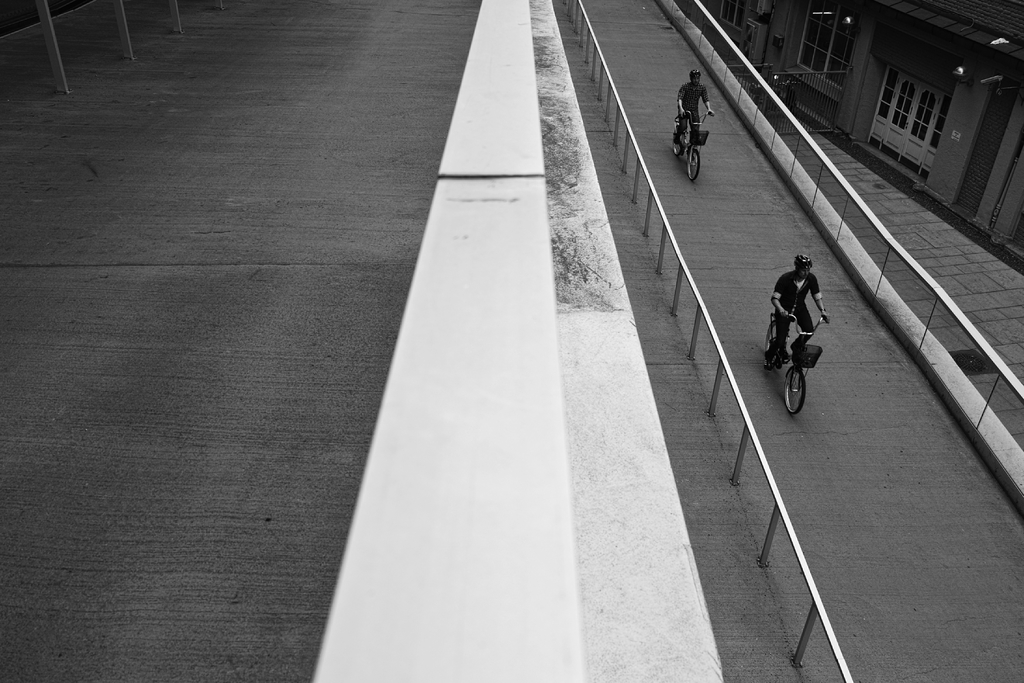Bike: (767, 305, 828, 416), (670, 107, 716, 182)
